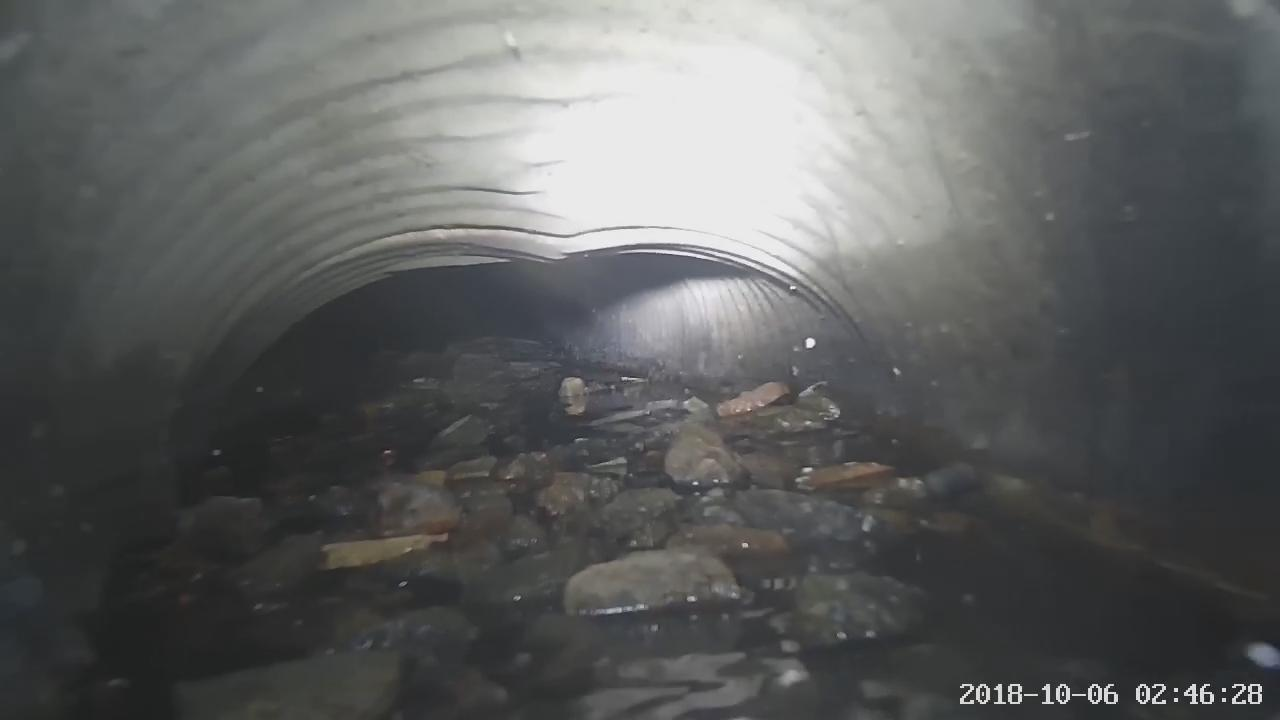BX: (290, 193, 889, 325)
CJ: (116, 340, 1243, 719)
